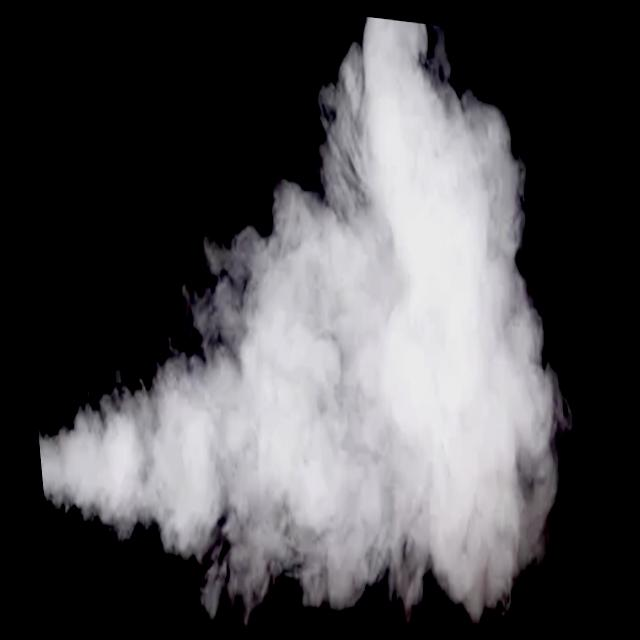no_helmet: (0, 0, 609, 618)
